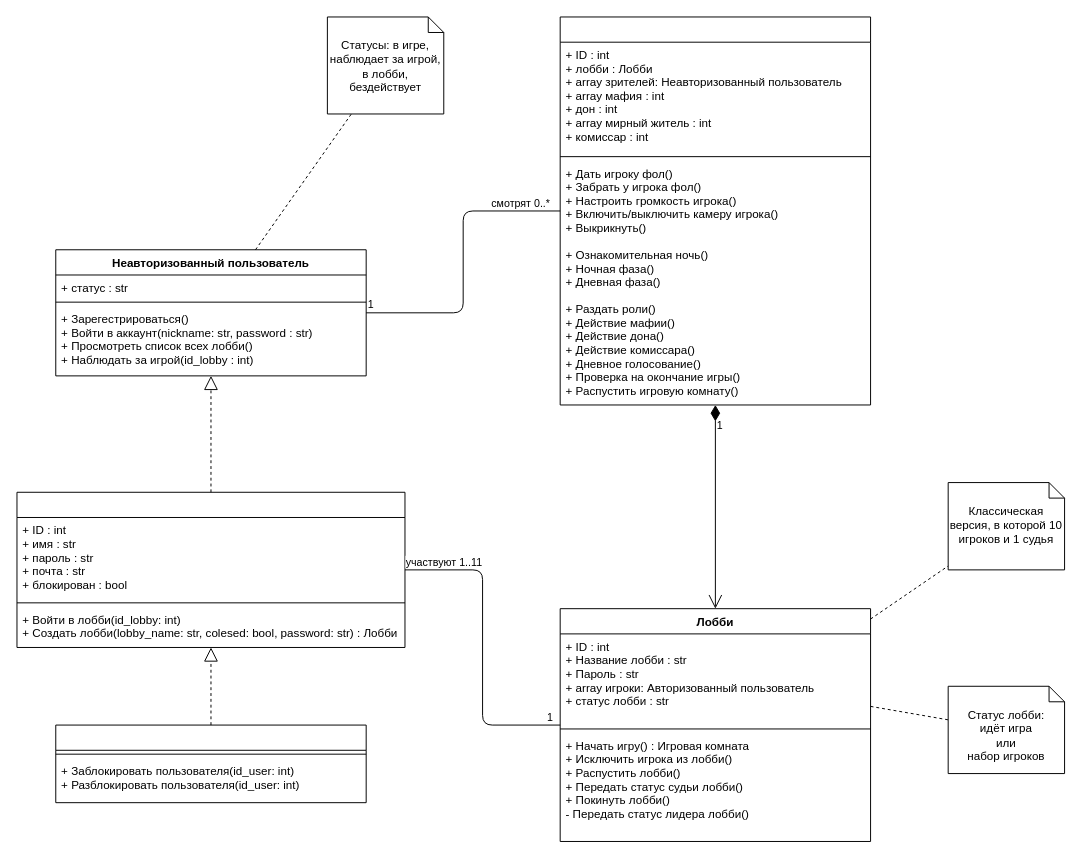
This 1082x861 diagram has some shape labels left out. Each missing label, with the box of its shape:
Авторизованный пользователь: (16, 491, 405, 647)
Игровая комната: (559, 16, 871, 405)
Модератор: (55, 724, 366, 803)
